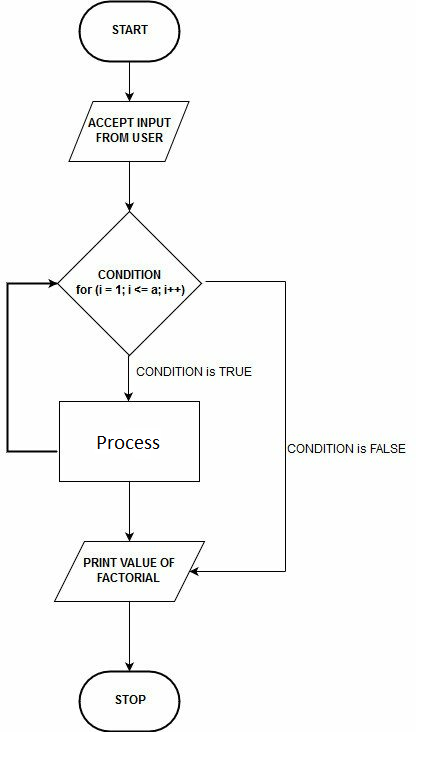arrow: (191, 276, 290, 579), (1, 274, 62, 456), (121, 596, 137, 670), (120, 158, 141, 212), (121, 348, 141, 404), (123, 479, 136, 541), (123, 60, 137, 103)
data: (48, 538, 211, 606), (64, 96, 191, 166)
decision: (54, 209, 208, 356)
process: (55, 398, 204, 486)
terminator: (76, 668, 184, 736), (76, 2, 183, 68)
text: (72, 261, 190, 301), (77, 554, 183, 589), (84, 111, 172, 147), (284, 437, 409, 461), (134, 362, 257, 382), (91, 432, 166, 453), (107, 19, 154, 40), (112, 690, 150, 709)
